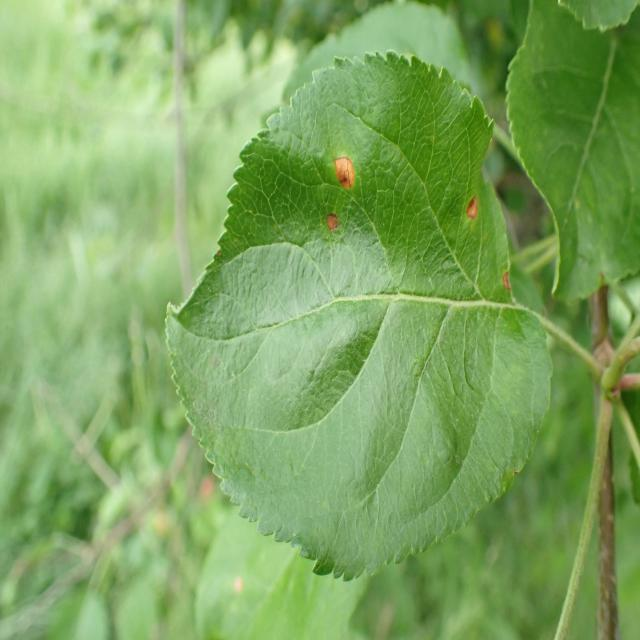Black Rot: (320, 132, 373, 197), (318, 204, 350, 243), (455, 182, 483, 225), (488, 264, 518, 297)
